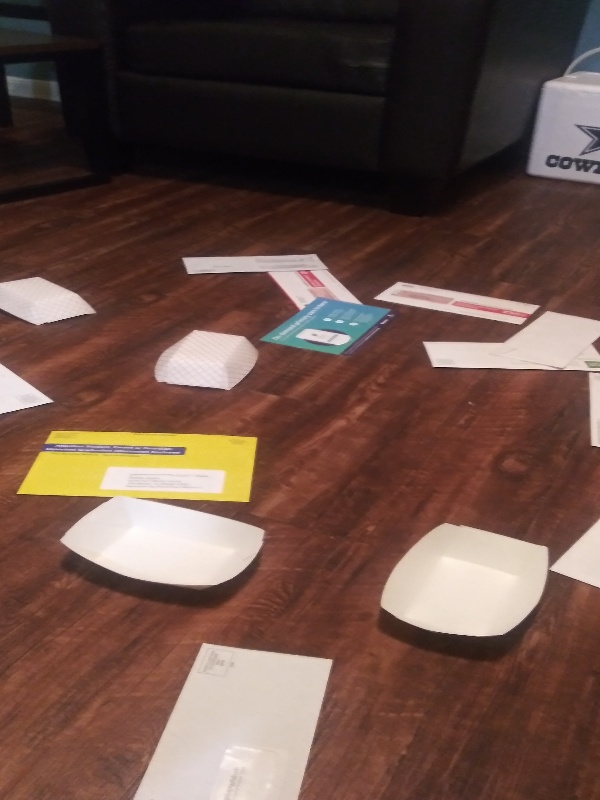plate: (53, 490, 271, 598), (368, 519, 555, 644), (148, 324, 266, 393), (1, 273, 95, 330)
